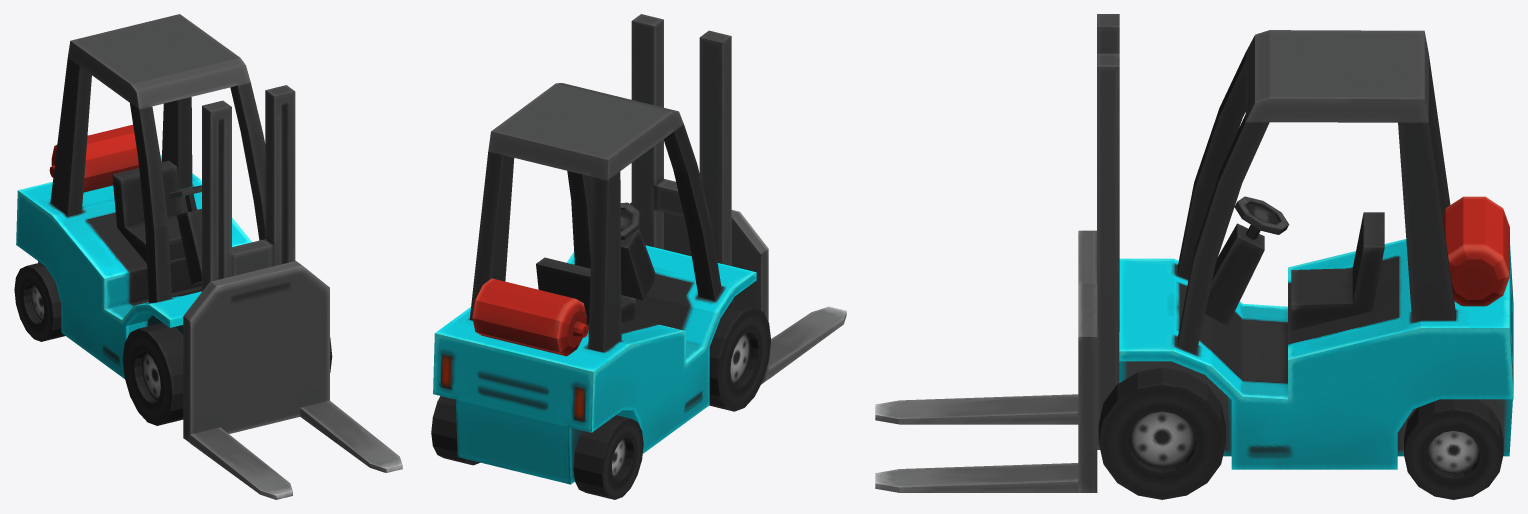
Rendered from pogruz4ik.fbx.
3 views of the same model, side by side, from view 1: azimuth 30°, elevation 25°; view 2: azimuth 150°, elevation 25°; view 3: azimuth 270°, elevation 25° (orthographic). The views are drawn at different scales.
Visible parts, largest first — view 1: Cube, Cube.007; view 2: Cube, Cube.007; view 3: Cube, Cube.007.
Part boxes in pixels (x1,y1,x2,y2): Cube: [14, 14, 332, 425]; Cube.007: [183, 260, 402, 499]; Cube: [431, 14, 770, 499]; Cube.007: [630, 202, 846, 384]; Cube: [1097, 14, 1513, 499]; Cube.007: [875, 230, 1097, 492].
Size of the model in its own units: 55.3 by 106 by 149.
